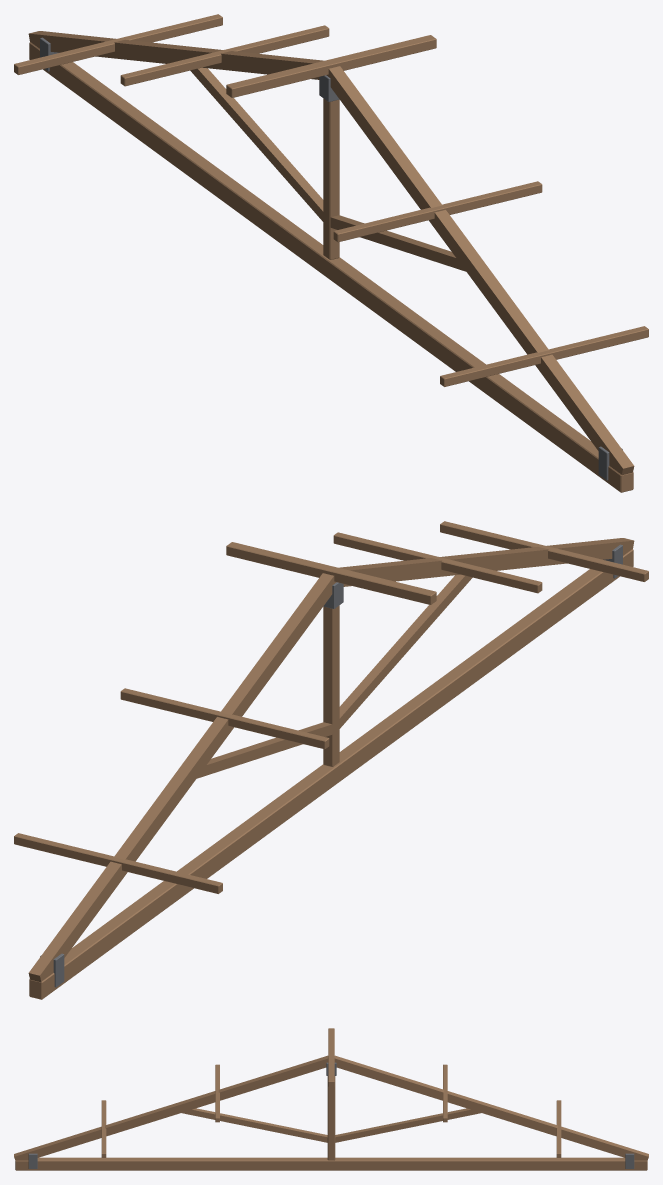
3 renders of one model, top to bottom at view 1: azimuth 30°, elevation 25°; view 2: azimuth 150°, elevation 25°; view 3: azimuth 270°, elevation 25°, orthographic. The views are drawn at different scales.
Visible parts, largest first — view 1: roof-beam-bay; view 2: roof-beam-bay; view 3: roof-beam-bay.
Boxes of the visible parts, bbox=[...] form: roof-beam-bay: bbox=[14, 14, 648, 492]; roof-beam-bay: bbox=[14, 521, 648, 999]; roof-beam-bay: bbox=[14, 1028, 648, 1170].
Bounding box in the file's own units: 2 × 1.99 × 10.05.
